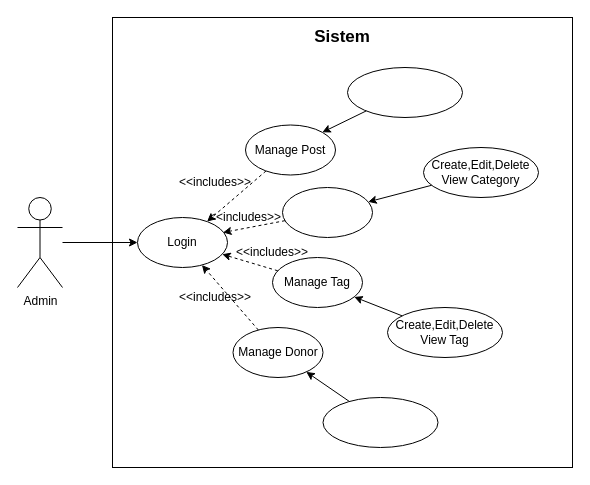
The diagram is 590 pixels wide and 485 high, and some of its shapes have lost their labels. Each missing label, with the box of its shape:
Create,Edit,Delete View Donor: (322, 396, 438, 448)
Create,Edit,Delete, View Post: (346, 66, 462, 118)
Manage Category: (282, 186, 372, 238)
